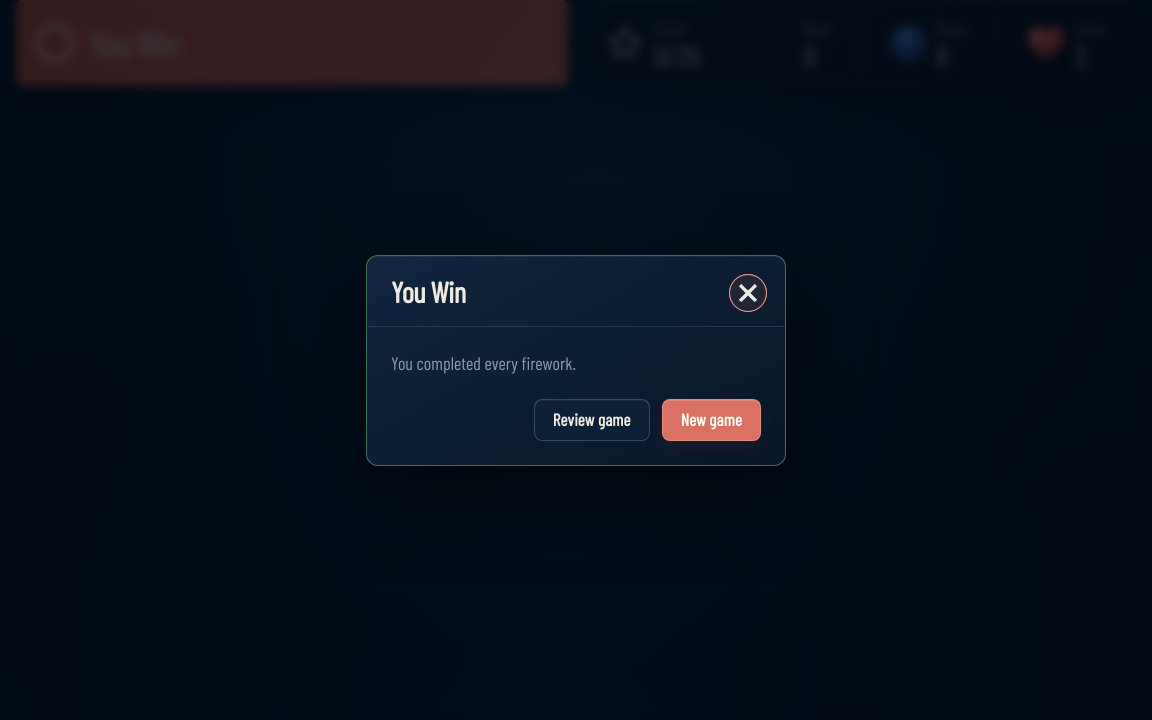
Test: Hanabi end-of-game results › closes results and opens review without resetting the game
What coordinates should you click on to do the following:
click the button "Review game"
I would click on:
 (592, 420)
Its box is [534,398,650,440].
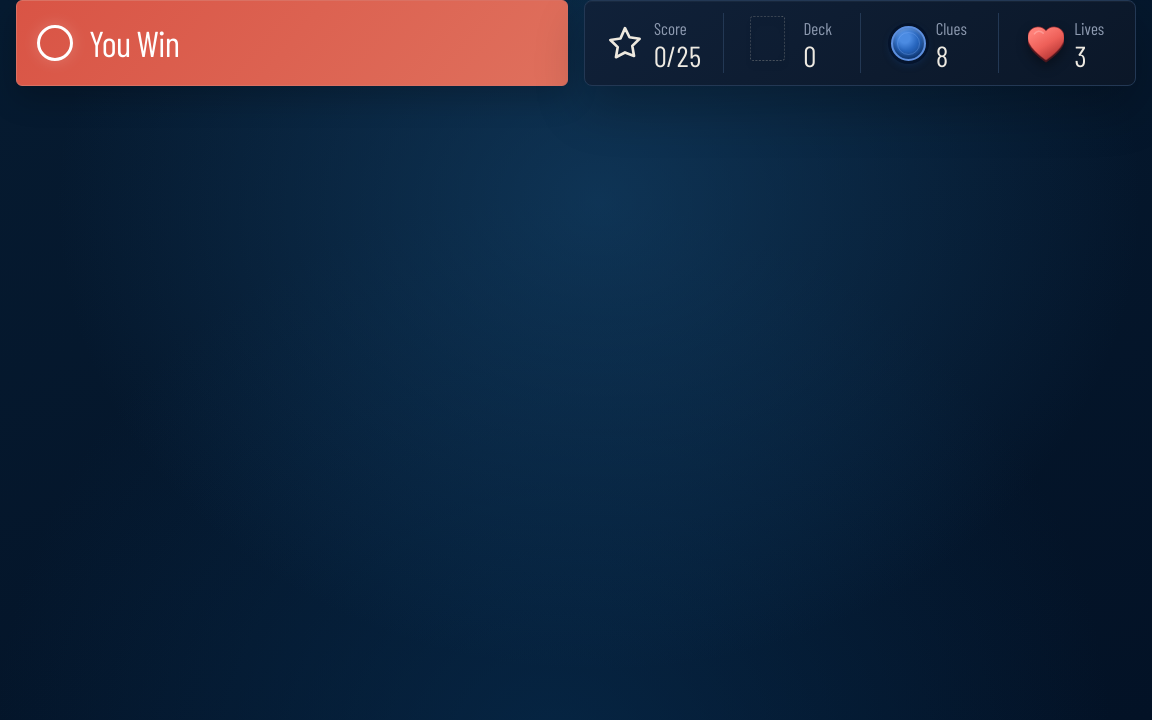
Now the button is gone
